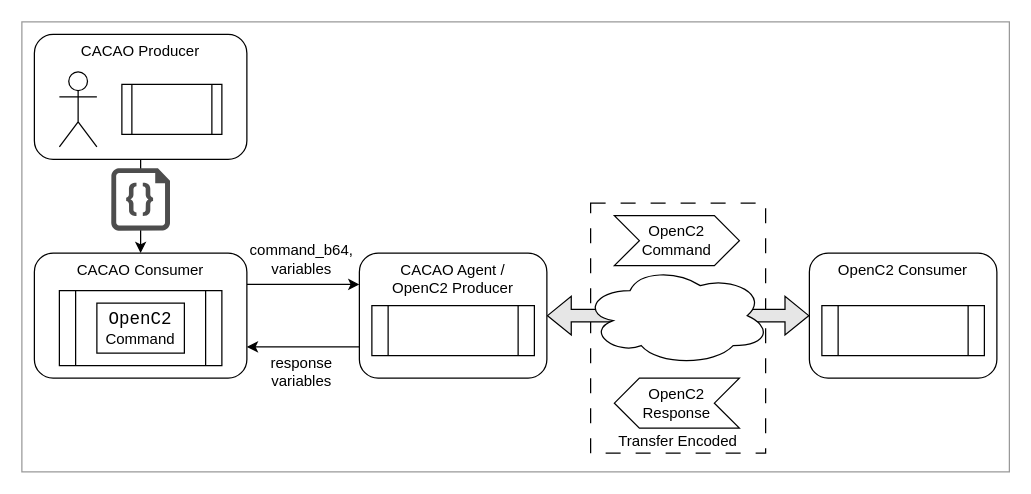
The diagram is 1031 pixels wide and 494 high, and some of its shapes have lost their labels. Here are the shapes that lost their labels. From the top down, the centre of each, then its label:
point 140,199: CACAO Playbook
point 452,330: MQTT Broker
point 676,315: Transfer Fabric
point 902,330: Actuator
